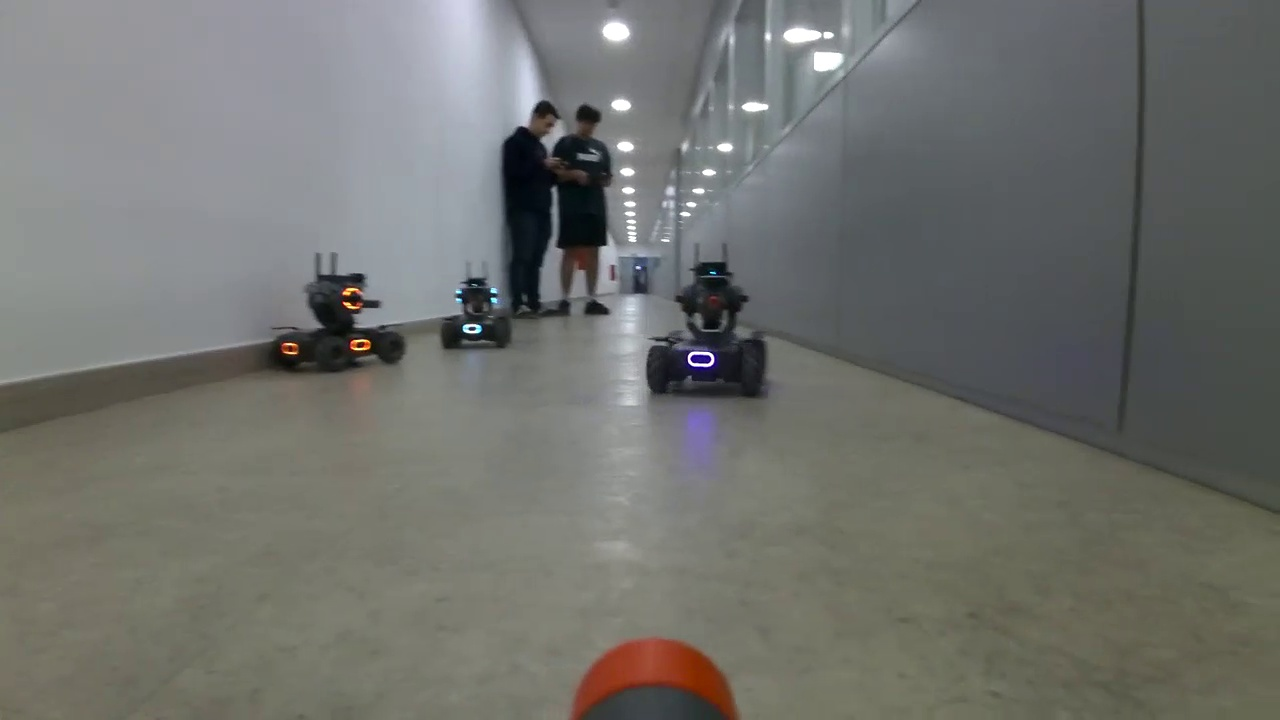robot: (644, 261, 768, 398), (272, 272, 407, 376), (440, 276, 515, 351)
